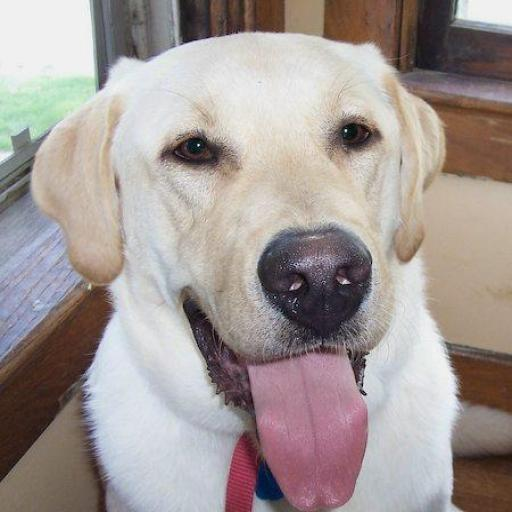dog_face: (46, 34, 504, 425)
